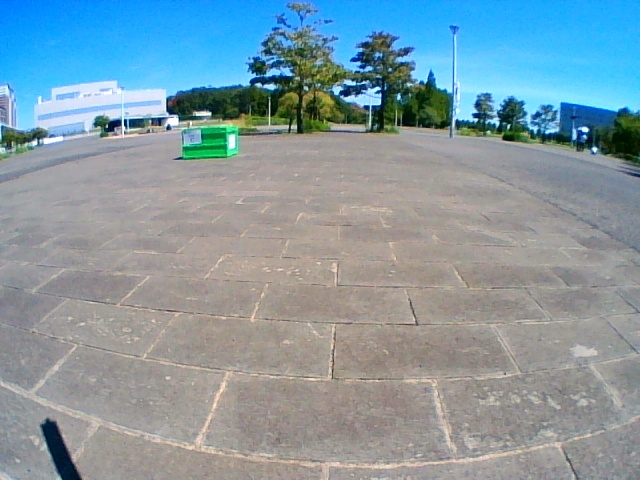green_box: (182, 125, 239, 158)
tag: (184, 130, 198, 145)
